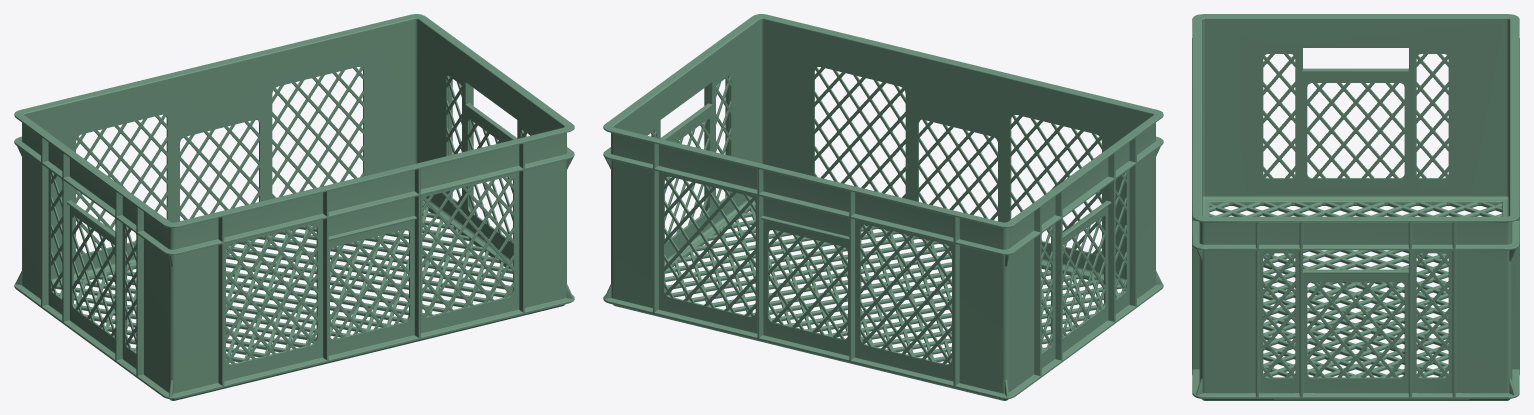
Rendered from crate_green_a01.glb.
The picture shows the model from 3 angles, left to right: view 1: azimuth 30°, elevation 25°; view 2: azimuth 150°, elevation 25°; view 3: azimuth 270°, elevation 25°; orthographic projection. The views are drawn at different scales.
Bounding box in the file's own units: 0.6051 × 0.2532 × 0.4051.
